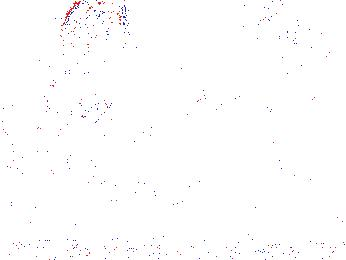moon jellyfish: (171, 91, 240, 177), (34, 70, 119, 131), (164, 64, 246, 125), (61, 1, 128, 64), (265, 12, 335, 70)
